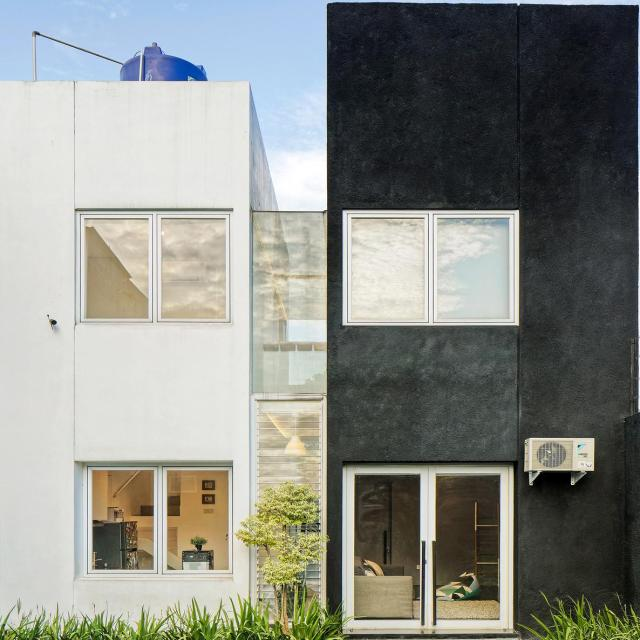door: (340, 464, 515, 640)
railing: (31, 28, 142, 79)
window: (349, 210, 515, 324), (79, 209, 230, 325), (87, 467, 234, 577)
